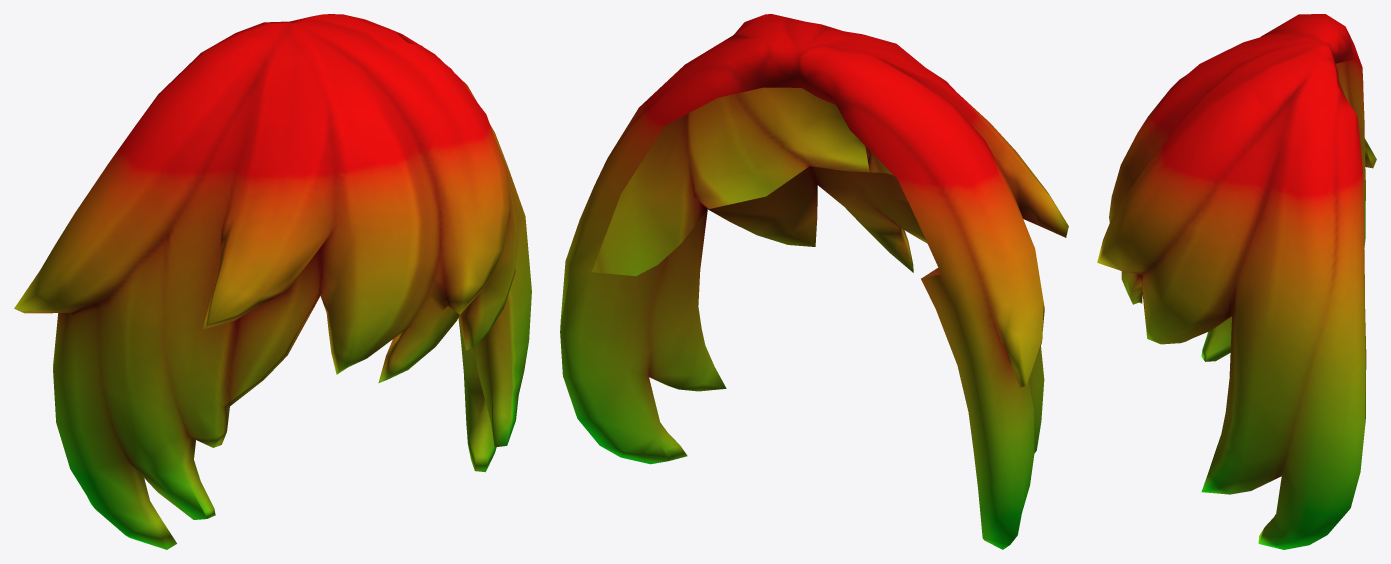
File: Outfit_HairFront_Gloomy.obj
3 renders of one model, left to right at view 1: azimuth 30°, elevation 25°; view 2: azimuth 150°, elevation 25°; view 3: azimuth 270°, elevation 25°, orthographic. The views are drawn at different scales.
Parts seen in each view (by area): view 1: Outfit_HairFront_Gloomy_0; view 2: Outfit_HairFront_Gloomy_0; view 3: Outfit_HairFront_Gloomy_0.
Boxes of the visible parts, left/top/right/bottom form: Outfit_HairFront_Gloomy_0: left=14, top=14, right=531, bottom=549; Outfit_HairFront_Gloomy_0: left=560, top=14, right=1068, bottom=549; Outfit_HairFront_Gloomy_0: left=1097, top=14, right=1376, bottom=549.
Bounding box in the file's own units: 0.2482 × 0.2333 × 0.1364.
Materials: 1 (1 with a texture image).
